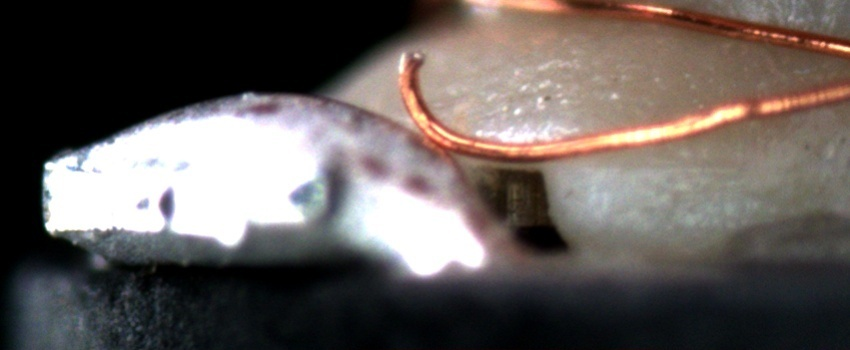DL: (568, 145, 753, 192)
